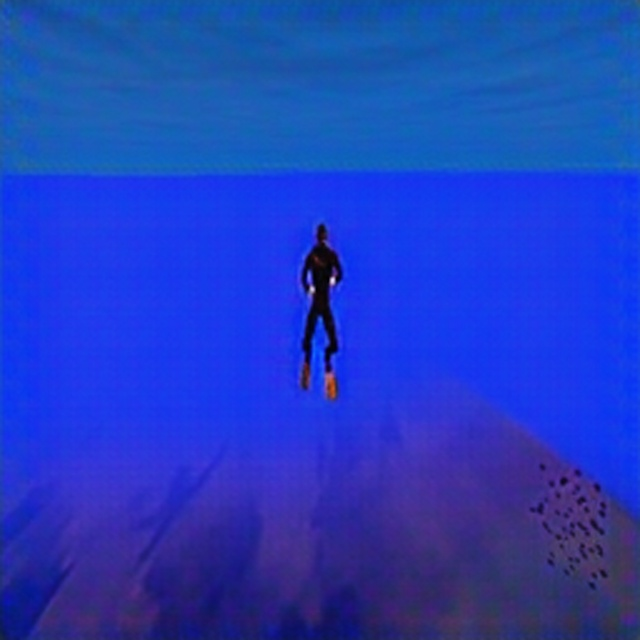diver: (297, 219, 345, 399)
